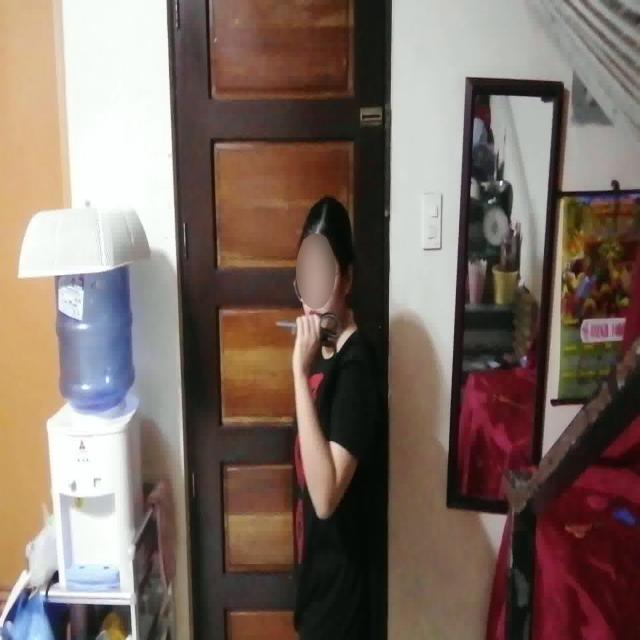scissor: (274, 311, 340, 363)
